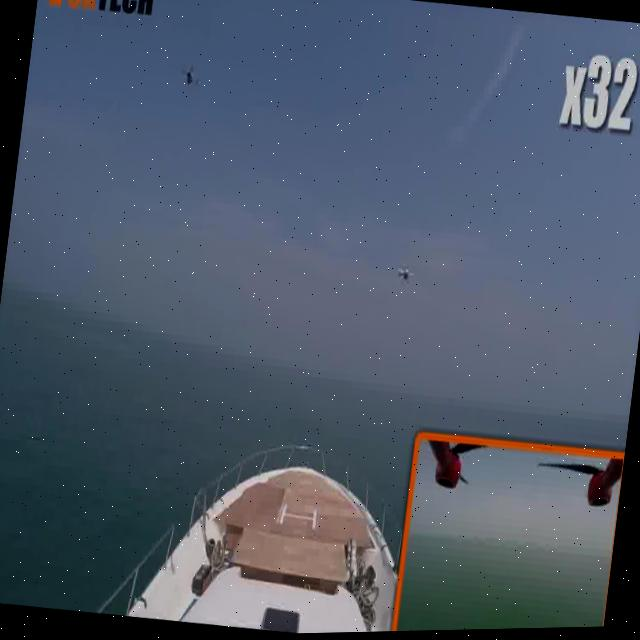drone: (168, 50, 205, 100), (388, 257, 428, 298)
